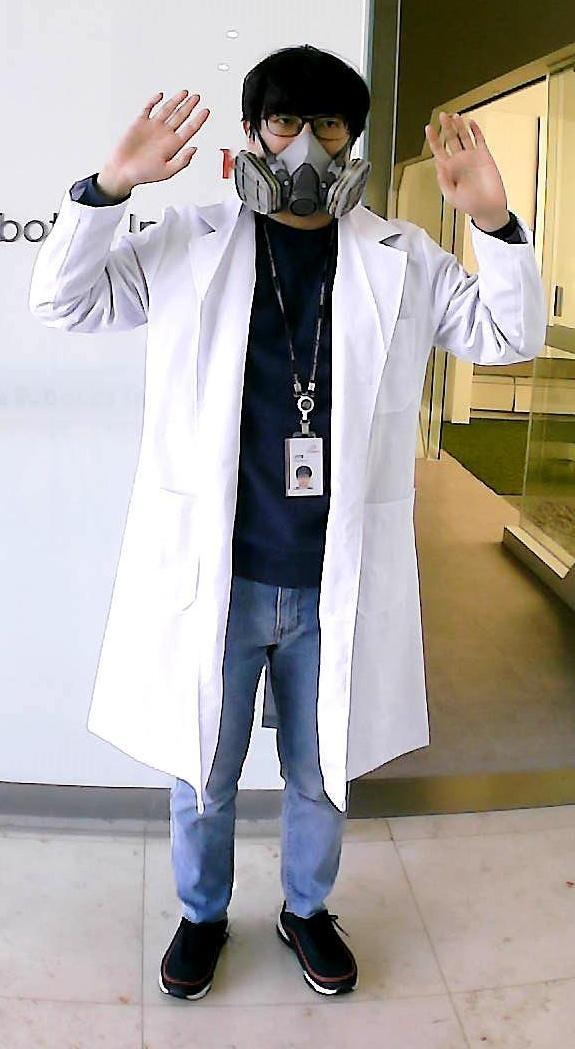lab_coat: (114, 232, 450, 767)
